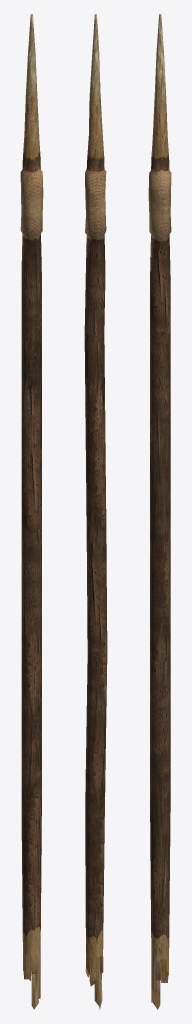
The model's file is Wooden Spear.fbx.
3 renders of one model, left to right at view 1: azimuth 90°, elevation 25°; view 2: azimuth 150°, elevation 25°; view 3: azimuth 270°, elevation 25°, orthographic.
Parts seen in each view (by area): view 1: Wooden Spear; view 2: Wooden Spear; view 3: Wooden Spear.
Boxes of the visible parts, box(x1,y1,x2,y2) form: Wooden Spear: box(20, 14, 43, 1009); Wooden Spear: box(84, 14, 107, 1009); Wooden Spear: box(148, 14, 171, 1009).
Bounding box in the file's own units: 0.0434 × 2 × 0.0413.
